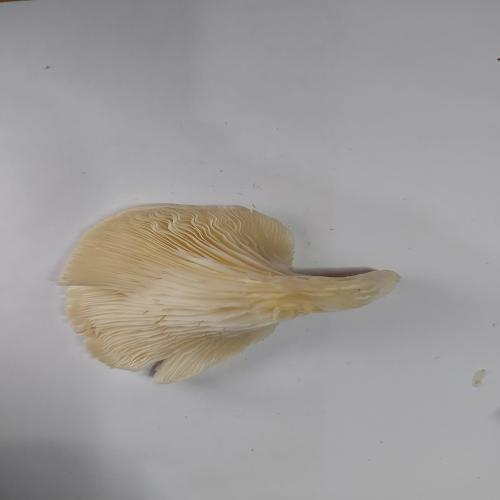Oyster Mushroom: (56, 202, 401, 385)
